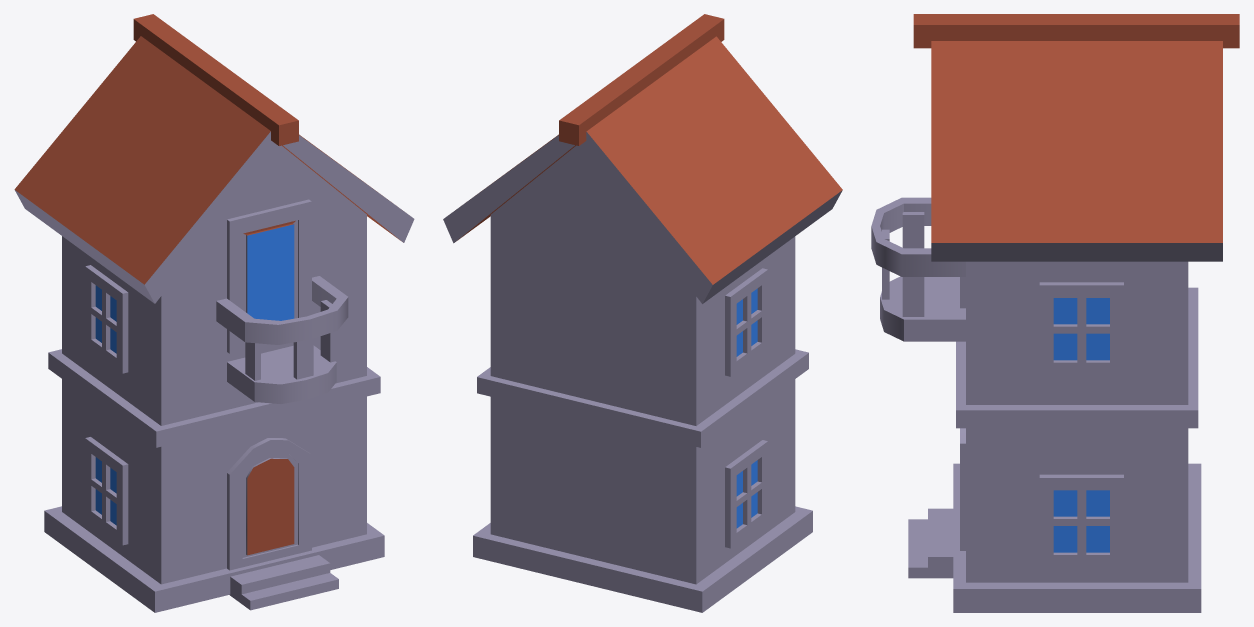
Rendered from HouseOne.fbx.
The picture shows the model from 3 angles, left to right: view 1: azimuth 30°, elevation 25°; view 2: azimuth 150°, elevation 25°; view 3: azimuth 270°, elevation 25°; orthographic projection. The views are drawn at different scales.
Parts seen in each view (by area): view 1: Cube.012; view 2: Cube.012; view 3: Cube.012.
Boxes of the visible parts, box(x1,y1,x2,y2) form: Cube.012: box(14, 14, 414, 612); Cube.012: box(443, 14, 842, 612); Cube.012: box(871, 14, 1239, 612).
Size of the model in its own units: 84.99 by 143 by 89.6.
